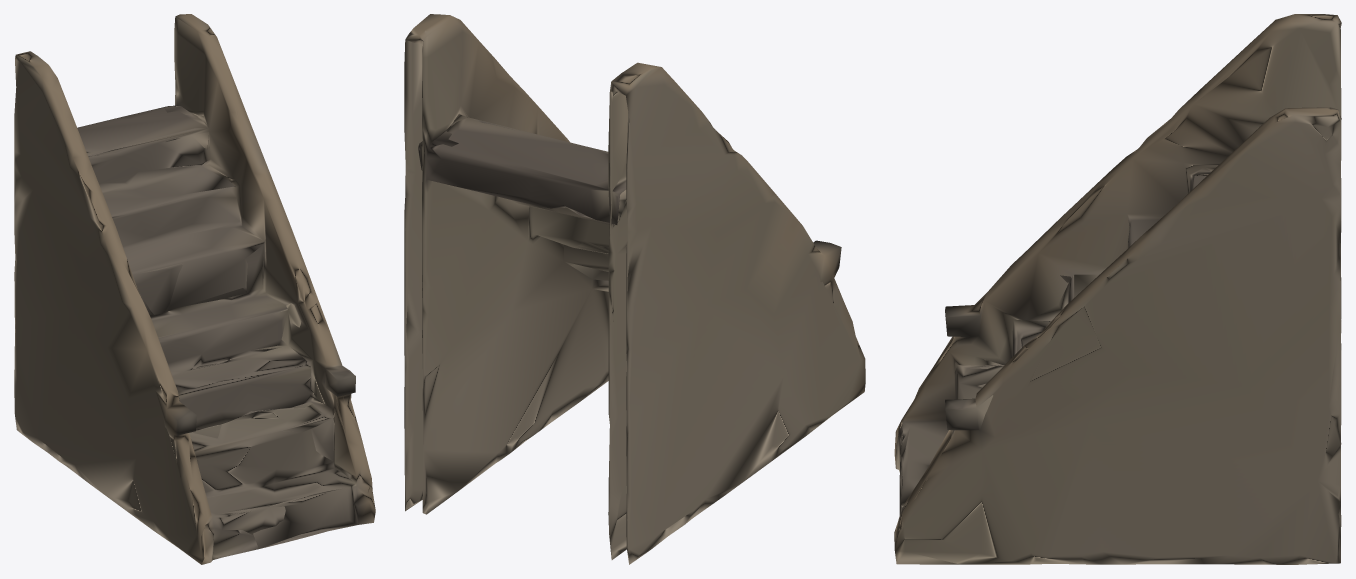
Rendered from gen3d-stair-lod0.glb.
The picture shows the model from 3 angles, left to right: view 1: azimuth 30°, elevation 25°; view 2: azimuth 150°, elevation 25°; view 3: azimuth 270°, elevation 25°; orthographic projection. The views are drawn at different scales.
Visible parts, largest first — view 1: part_0; view 2: part_0; view 3: part_0.
Boxes of the visible parts, x1,y1,x2,y2 form: part_0: [14, 14, 375, 564]; part_0: [404, 14, 865, 564]; part_0: [894, 14, 1341, 564].
Bounding box in the file's own units: 0.4988 × 0.9999 × 0.9013.
